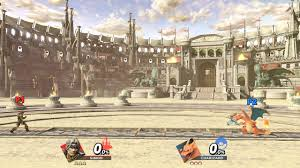charizard: (234, 105, 273, 136)
